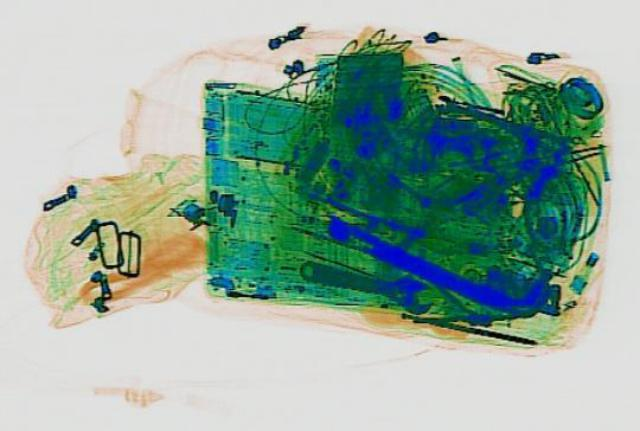Wrench: (287, 249, 443, 313)
